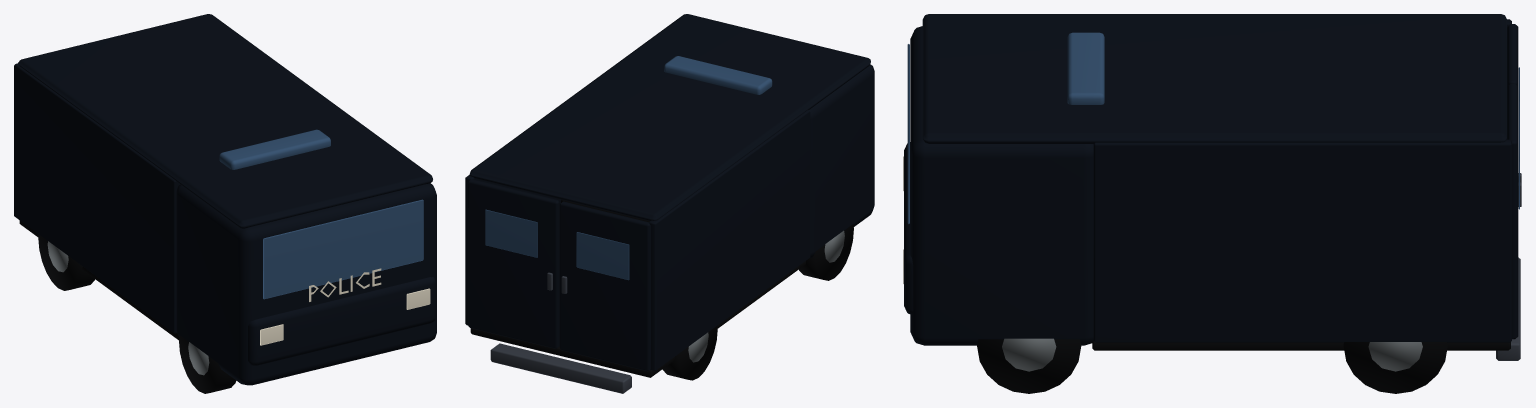
Rendered from police-van-interior.glb.
3 renders of one model, left to right at view 1: azimuth 30°, elevation 25°; view 2: azimuth 150°, elevation 25°; view 3: azimuth 270°, elevation 25°, orthographic. The views are drawn at different scales.
Parts seen in each view (by area): view 1: van-shell-and-interior; view 2: van-shell-and-interior, door-right, door-left; view 3: van-shell-and-interior, door-right, door-left.
Part boxes in pixels (x1,y1,x2,y2): van-shell-and-interior: (14,14,436,393); van-shell-and-interior: (465,14,874,393); door-right: (468,179,559,348); door-left: (559,201,650,371); van-shell-and-interior: (903,14,1520,393); door-right: (1507,84,1521,339); door-left: (1507,24,1521,182).
Bounding box in the file's own units: 2.4 × 2.39 × 5.
Materials: 1 (1 with a texture image).
